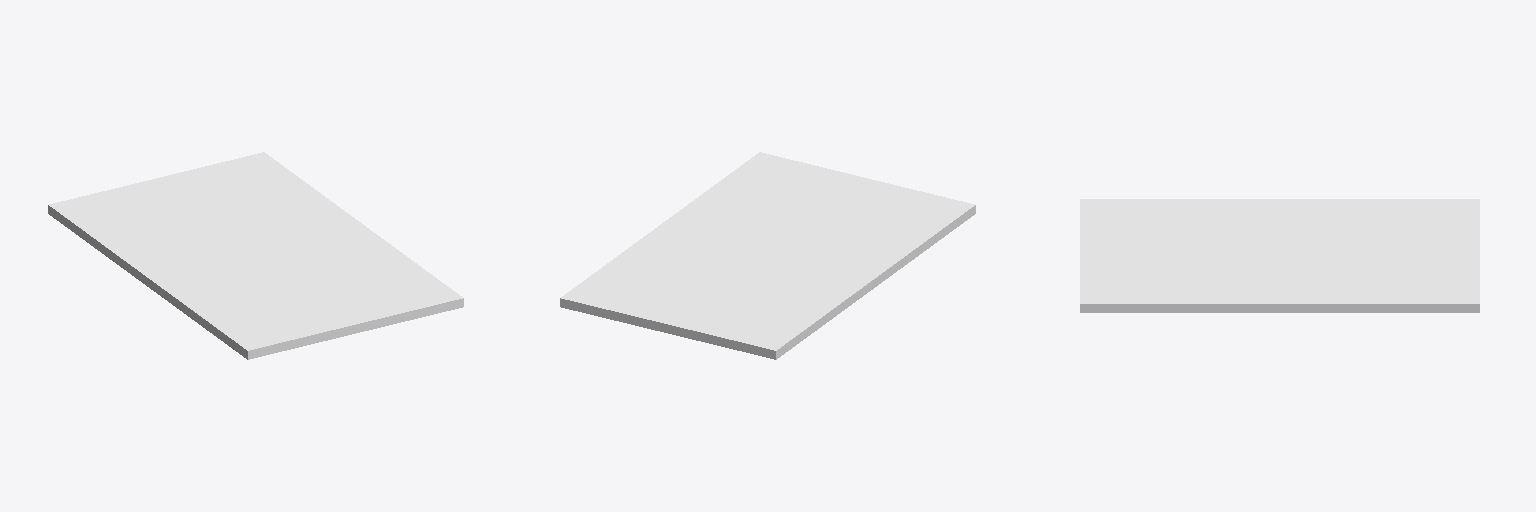
File: magazine1.obj
The picture shows the model from 3 angles: view 1: azimuth 30°, elevation 25°; view 2: azimuth 150°, elevation 25°; view 3: azimuth 270°, elevation 25°; orthographic projection.
Parts seen in each view (by area): view 1: object 1; view 2: object 1; view 3: object 1.
Part boxes in pixels (x1,y1,x2,y2): object 1: (48, 152, 463, 359); object 1: (560, 152, 975, 359); object 1: (1080, 199, 1479, 312).
Size of the model in its own units: 2.5 by 0.1 by 4.